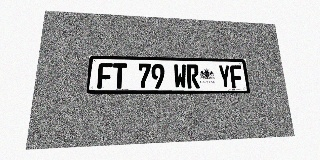7: (137, 63, 151, 89)
9: (151, 64, 165, 88)
F: (97, 63, 113, 89), (230, 65, 244, 88)
R: (186, 64, 200, 88)
T: (112, 63, 127, 89)
W: (173, 64, 187, 88)
Y: (218, 65, 232, 88)
